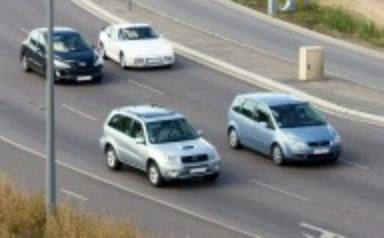car: (94, 99, 220, 191), (229, 90, 347, 169), (21, 24, 102, 83), (100, 18, 183, 69)
